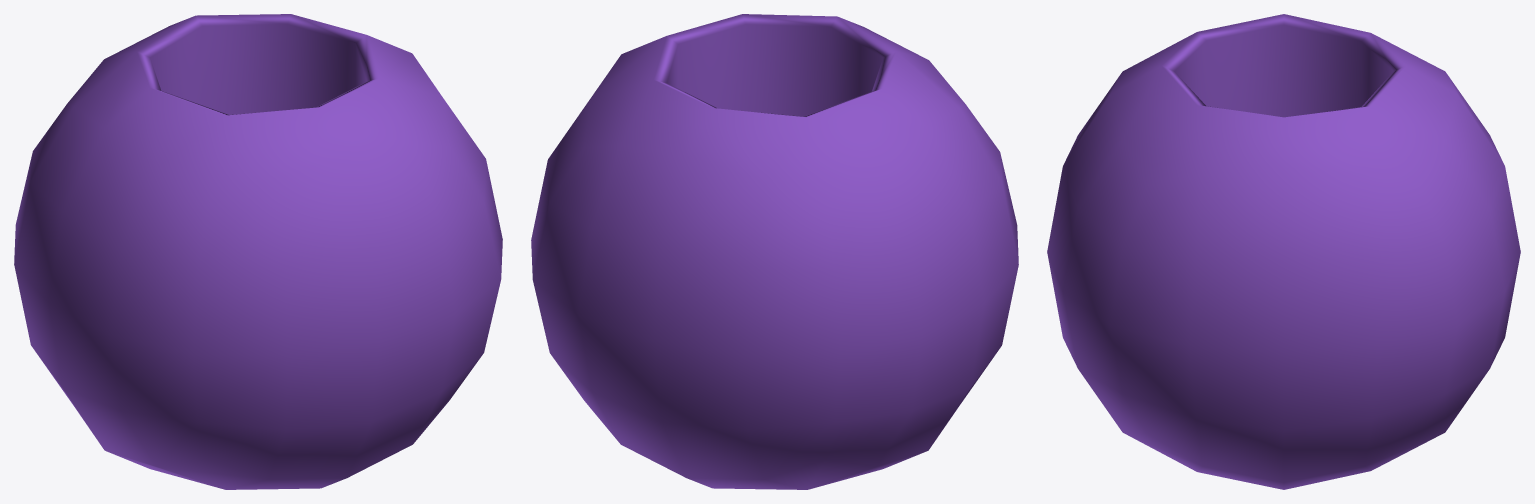
Rendered from Store_9_Toy_Ball_5.glb.
3 renders of one model, left to right at view 1: azimuth 30°, elevation 25°; view 2: azimuth 150°, elevation 25°; view 3: azimuth 270°, elevation 25°, orthographic. The views are drawn at different scales.
Visible parts, largest first — view 1: Store_9_Toy_Ball_5; view 2: Store_9_Toy_Ball_5; view 3: Store_9_Toy_Ball_5.
Part boxes in pixels (x1,y1,x2,y2): Store_9_Toy_Ball_5: (14, 14, 502, 489); Store_9_Toy_Ball_5: (531, 14, 1018, 489); Store_9_Toy_Ball_5: (1047, 14, 1520, 489).
Size of the model in its own units: 0.2652 by 0.2301 by 0.2652.
1 material, 1 textured.
